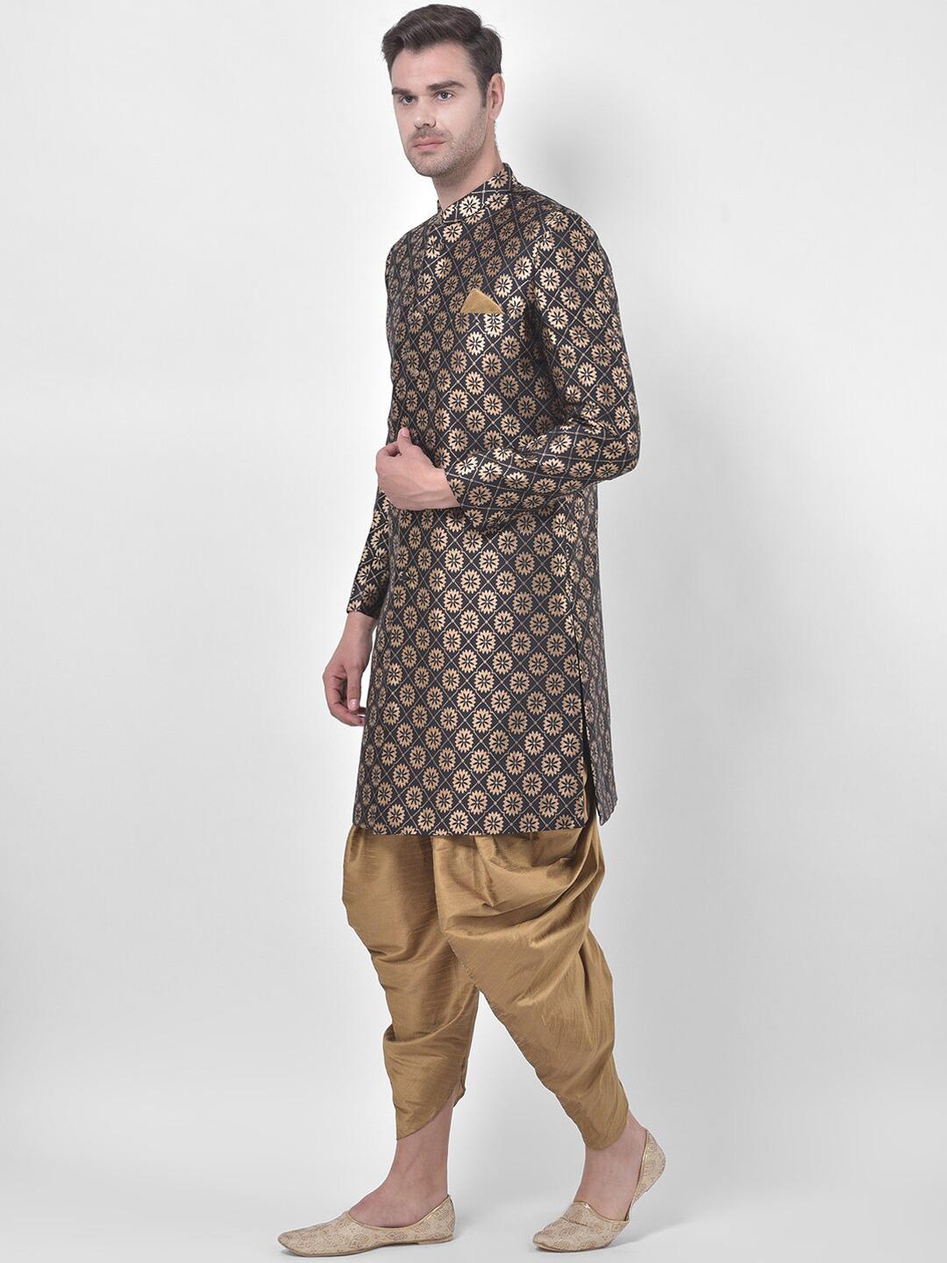Design Sherwani: (333, 162, 641, 827)
